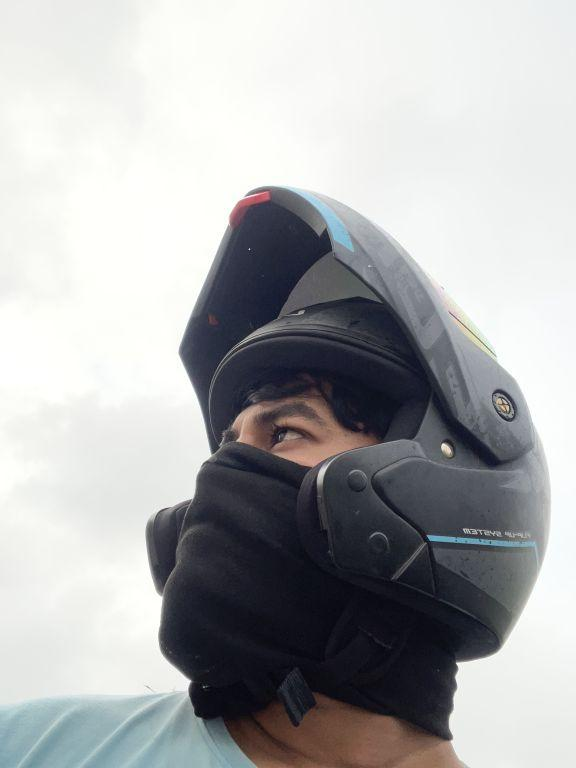helmet: (132, 170, 570, 706)
